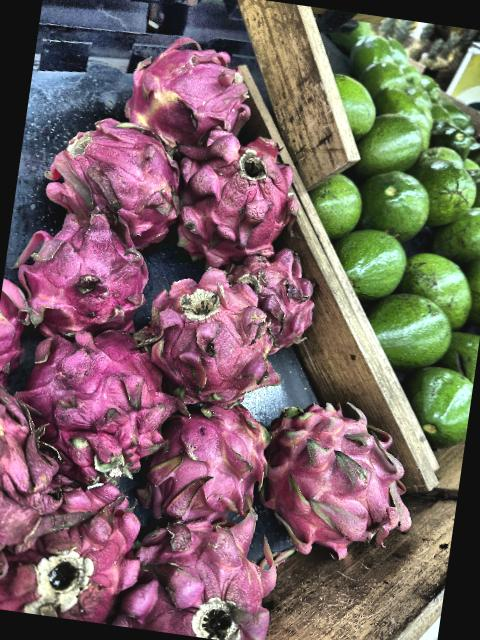buah-naga-belum-matang: (114, 26, 254, 148)
buah-naga-matang: (241, 386, 426, 554), (15, 314, 175, 477), (0, 468, 152, 628), (118, 507, 300, 640), (40, 108, 196, 243), (138, 264, 284, 392), (168, 124, 301, 264), (148, 388, 284, 524), (7, 208, 151, 334), (0, 379, 66, 569), (224, 242, 325, 348), (0, 269, 40, 380)
